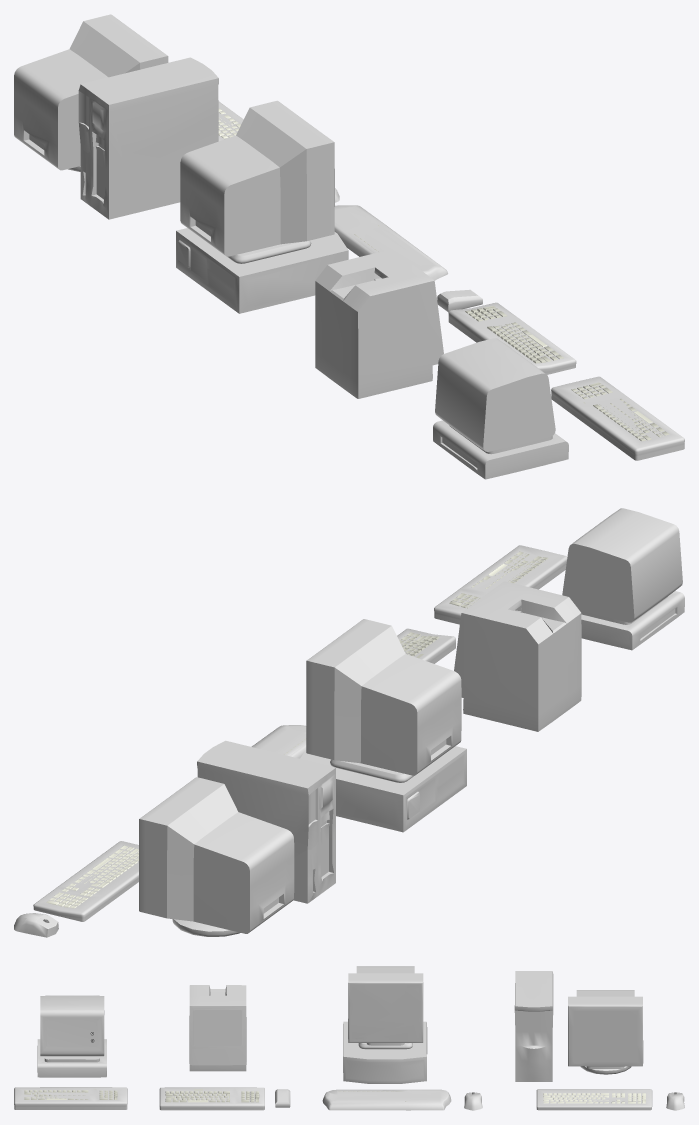
The model's file is pack2.fbx.
3 renders of one model, top to bottom at view 1: azimuth 30°, elevation 25°; view 2: azimuth 150°, elevation 25°; view 3: azimuth 270°, elevation 25°, orthographic. The views are drawn at different scales.
Parts seen in each view (by area): view 1: screen1_outline, tower_outline, mac_outline, ibm_outline, screen2_outline, desktop_outline, ibm_keyboard_outline, desktop_keyboard_outline, mac_keyboard_outline, mac_keys, ibm_keys.001, mac_mouse_outline; view 2: screen1_outline, screen2_outline, mac_outline, ibm_outline, tower_outline, desktop_outline, tower_keyboard_outline, ibm_keyboard_outline, tower_keys, desktop_keyboard_outline, mac_keyboard_outline, ibm_keys.001 (+1 smaller); view 3: screen1_outline, screen2_outline, ibm_outline, mac_outline, tower_outline, desktop_outline, desktop_keyboard_outline, ibm_keyboard_outline, tower_keyboard_outline, mac_keyboard_outline, tower_keys, mac_keys (+4 smaller).
Boxes of the visible parts, x1=… form: screen1_outline: x1=180, y1=100, x2=334, y2=263; tower_outline: x1=78, y1=57, x2=218, y2=219; mac_outline: x1=315, y1=249, x2=443, y2=398; ibm_outline: x1=433, y1=338, x2=568, y2=479; screen2_outline: x1=14, y1=14, x2=168, y2=171; desktop_outline: x1=176, y1=228, x2=348, y2=313; ibm_keyboard_outline: x1=551, y1=376, x2=684, y2=460; desktop_keyboard_outline: x1=334, y1=205, x2=447, y2=280; mac_keyboard_outline: x1=448, y1=302, x2=576, y2=374; mac_keys: x1=465, y1=305, x2=563, y2=363; ibm_keys.001: x1=571, y1=382, x2=669, y2=441; mac_mouse_outline: x1=437, y1=289, x2=482, y2=312; screen1_outline: x1=306, y1=619, x2=461, y2=782; screen2_outline: x1=139, y1=777, x2=294, y2=936; mac_outline: x1=454, y1=581, x2=581, y2=731; ibm_outline: x1=562, y1=508, x2=684, y2=650; tower_outline: x1=197, y1=740, x2=335, y2=903; desktop_outline: x1=300, y1=746, x2=466, y2=832; tower_keyboard_outline: x1=33, y1=841, x2=138, y2=921; ibm_keyboard_outline: x1=434, y1=545, x2=567, y2=624; tower_keys: x1=46, y1=845, x2=138, y2=908; desktop_keyboard_outline: x1=251, y1=725, x2=306, y2=758; mac_keyboard_outline: x1=397, y1=628, x2=455, y2=663; ibm_keys.001: x1=449, y1=551, x2=548, y2=608; screen1_outline: x1=348, y1=966, x2=423, y2=1049; screen2_outline: x1=568, y1=990, x2=643, y2=1074; ibm_outline: x1=37, y1=995, x2=106, y2=1077; mac_outline: x1=189, y1=985, x2=246, y2=1071; tower_outline: x1=514, y1=971, x2=553, y2=1081; desktop_outline: x1=343, y1=1021, x2=427, y2=1083; desktop_keyboard_outline: x1=322, y1=1089, x2=451, y2=1110; ibm_keyboard_outline: x1=14, y1=1087, x2=127, y2=1109; tower_keyboard_outline: x1=536, y1=1089, x2=652, y2=1110; mac_keyboard_outline: x1=159, y1=1087, x2=264, y2=1110; tower_keys: x1=543, y1=1093, x2=645, y2=1103; mac_keys: x1=165, y1=1091, x2=259, y2=1102.
Bounding box in the file's own units: 384 × 262 × 1645.
